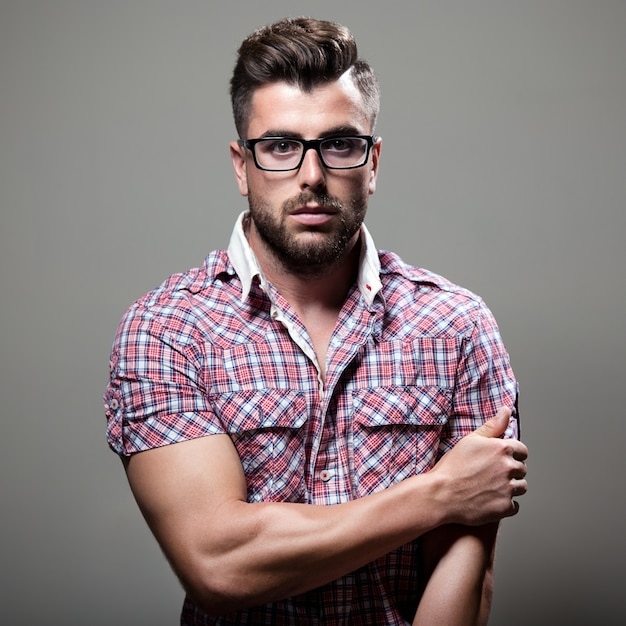young: (224, 10, 398, 272)
